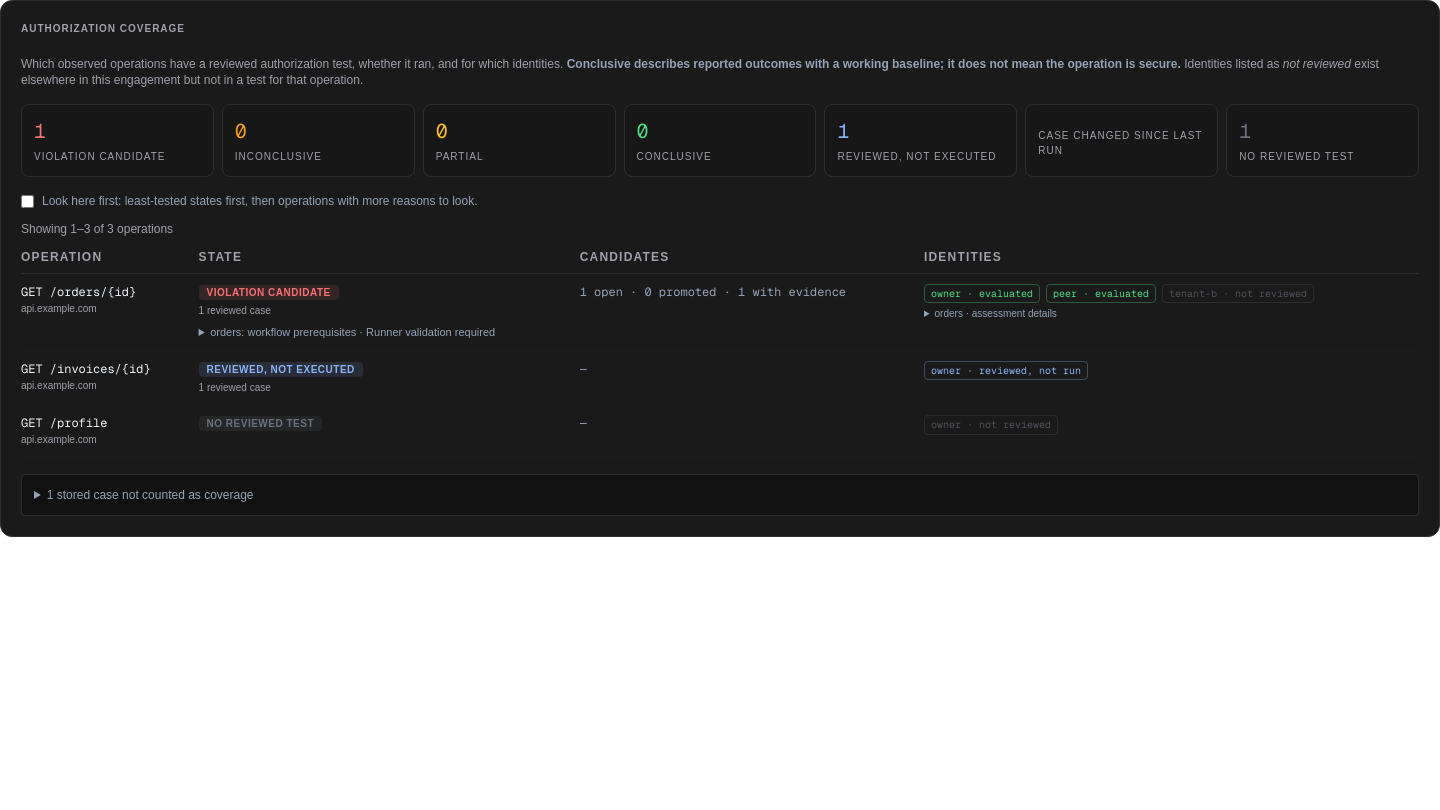
Test: AuthorizationCoveragePanel › shows each operation's state, candidates and per-identity coverage
Expected: the text "GET /orders/{id}" is shown, 21,284 -> 136,300
Expected: the text "1 open · 0 promoted · 1 with evidence" is shown, 580,274 -> 924,350
Click the heading "orders: workflow prerequisites · Runner validation required": point(353, 332) 210,326 -> 495,338
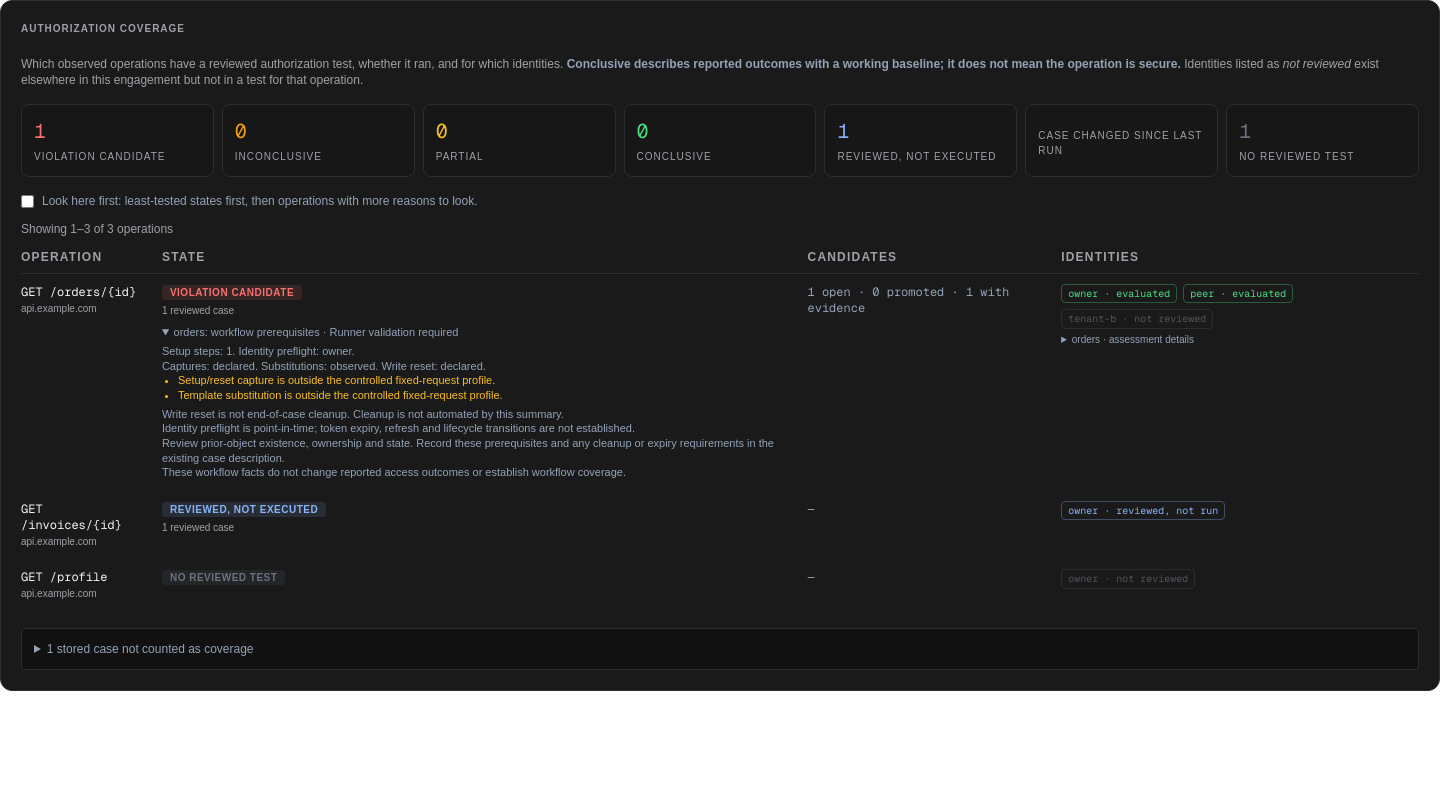
Result: the list item "Setup/reset capture is outside the controlled fixed-request profile" is shown at 178,374 -> 495,386
Result: the text "Write reset is not end-of-case cleanup" is shown at 162,408 -> 564,420
